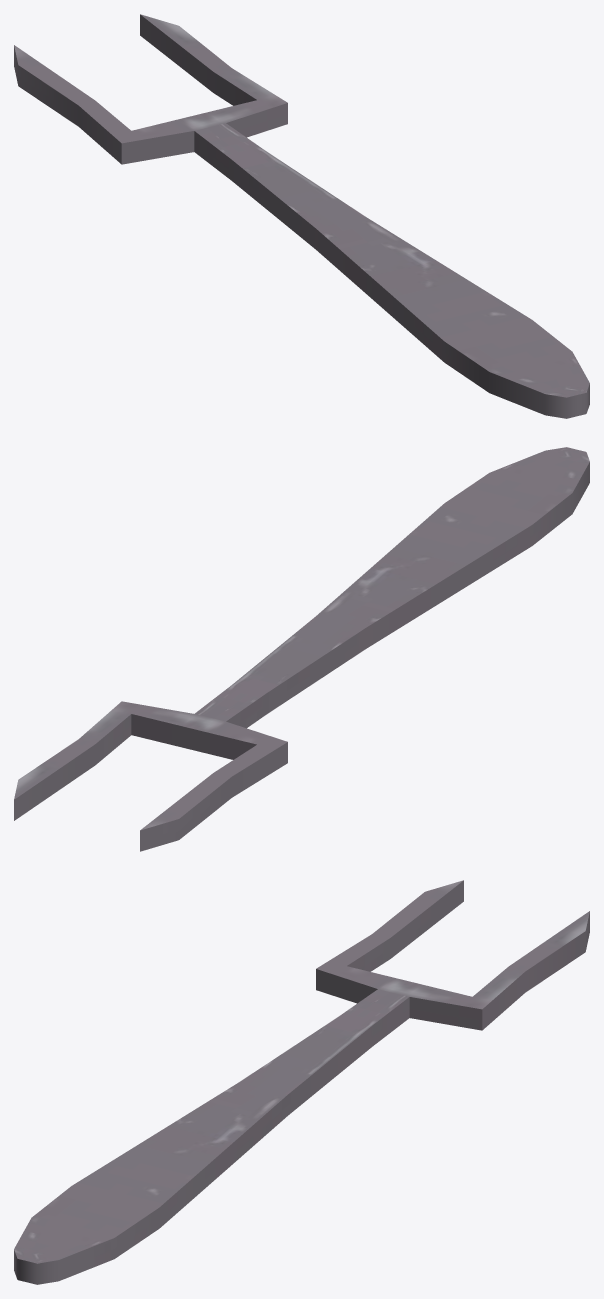
Rendered from Table_Fork.gltf.
The picture shows the model from 3 angles, top to bottom: view 1: azimuth 30°, elevation 25°; view 2: azimuth 150°, elevation 25°; view 3: azimuth 330°, elevation 25°; orthographic projection.
Parts seen in each view (by area): view 1: Table_Fork; view 2: Table_Fork; view 3: Table_Fork.
Part boxes in pixels (x1,y1,x2,y2): Table_Fork: (14, 14, 589, 418); Table_Fork: (14, 447, 589, 851); Table_Fork: (14, 880, 589, 1284).
Bounding box in the file's own units: 0.0505 × 0.00616 × 0.2626.
Materials: 1 (1 with a texture image).
